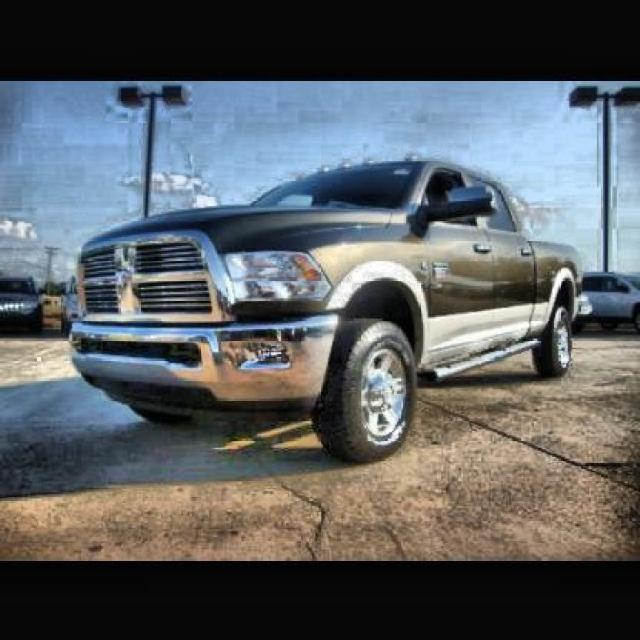black: (73, 143, 570, 420)
